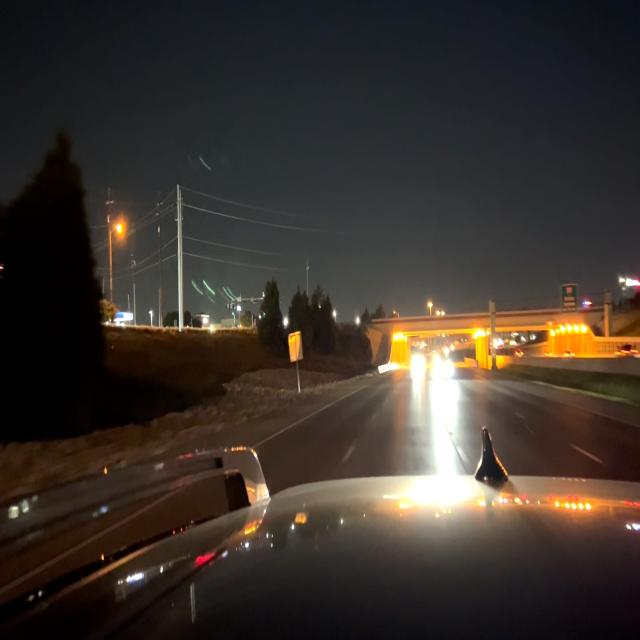back-of-sign: (288, 331, 302, 364)
